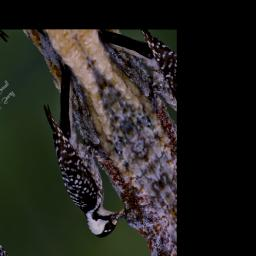Woodpecker: (15, 59, 145, 246)
